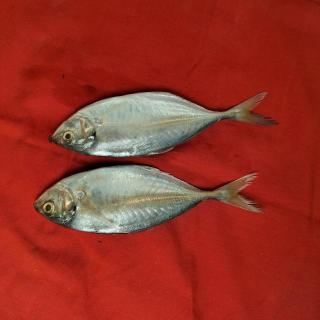Ikan: (29, 83, 285, 247)
